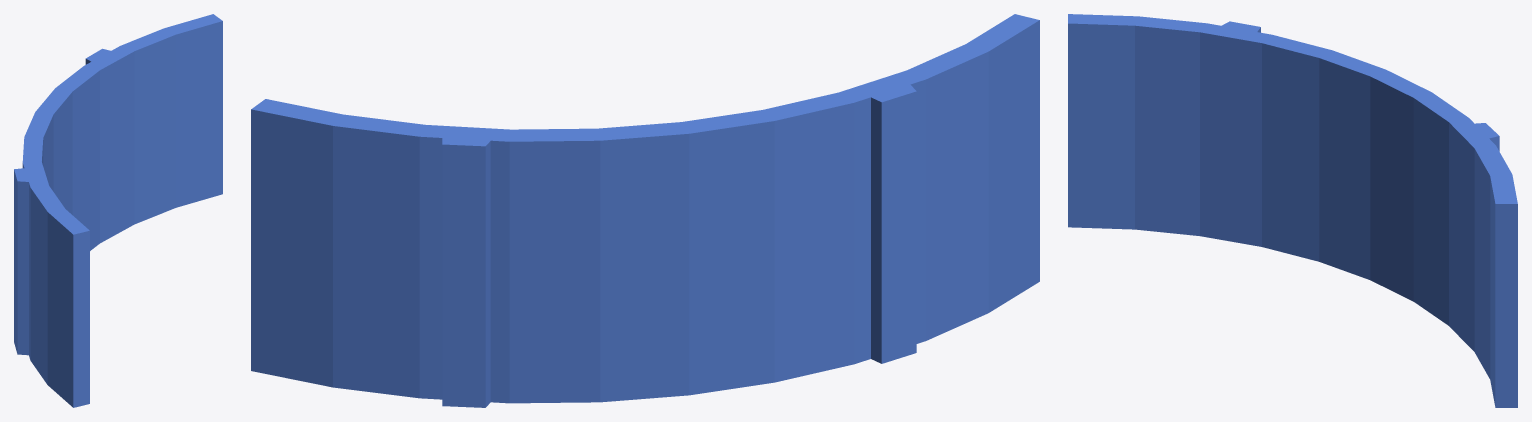
File: TopAstra_Curve_Round_Outer_Collision.fbx
The picture shows the model from 3 angles, left to right: view 1: azimuth 30°, elevation 25°; view 2: azimuth 150°, elevation 25°; view 3: azimuth 270°, elevation 25°; orthographic projection. The views are drawn at different scales.
Visible parts, largest first — view 1: TopAstra_Curve_Round_Outer_Collision; view 2: TopAstra_Curve_Round_Outer_Collision; view 3: TopAstra_Curve_Round_Outer_Collision.
Boxes of the visible parts, bbox=[...] form: TopAstra_Curve_Round_Outer_Collision: bbox=[14, 14, 222, 407]; TopAstra_Curve_Round_Outer_Collision: bbox=[251, 14, 1039, 407]; TopAstra_Curve_Round_Outer_Collision: bbox=[1068, 14, 1517, 407].
Bounding box in the file's own units: 400 × 200 × 400.
